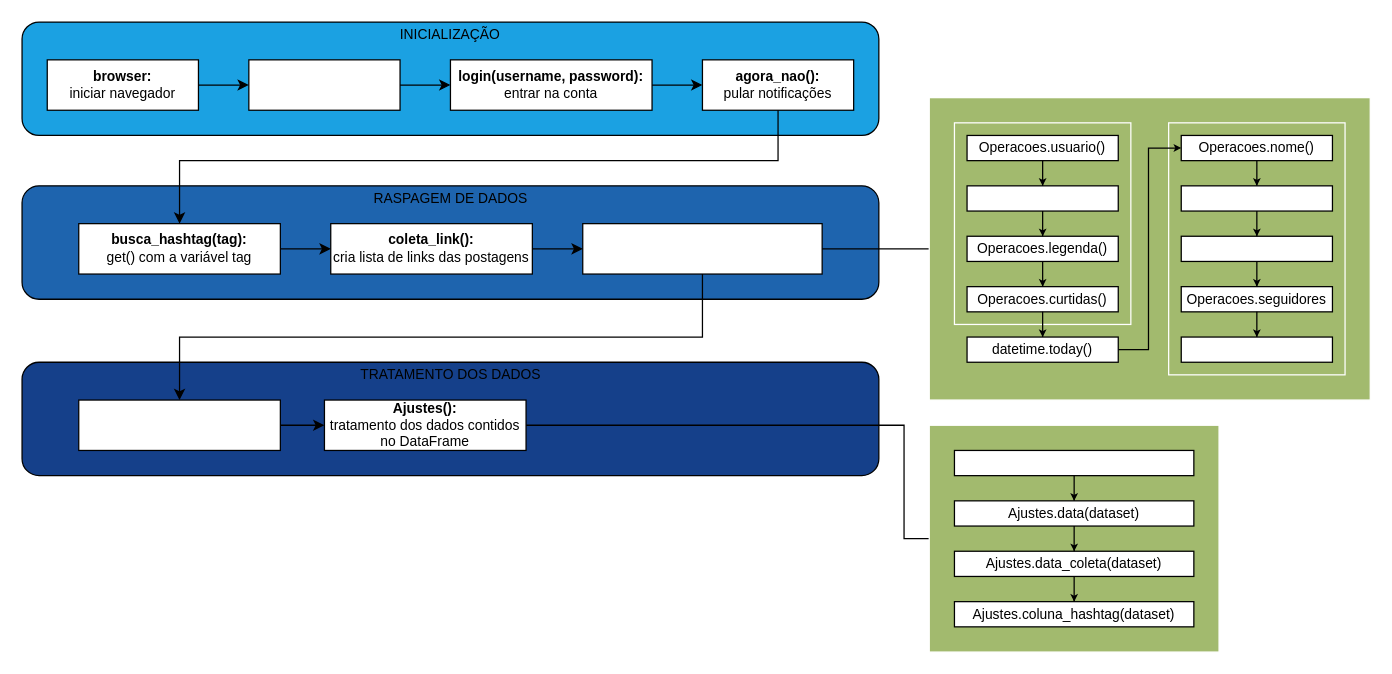
This 1392x674 diagram has some shape labels left out. Each missing label, with the centre of its shape:
Ajustes.numeros(dataset): the point at 1073,462
get(url): site do instagram: the point at 324,84
Operacoes.biografia(): the point at 1256,248
Operacoes.data(): the point at 1042,198
Operacoes.seguindo(): the point at 1256,349
Operacoes.total_post(): the point at 1256,198
raspagem(links): entra em cada link, executa Operacoes() e retorna uniao_llistas: the point at 701,248
tabela(listas): transforma resultado de raspagem em DataFrame: the point at 178,424
